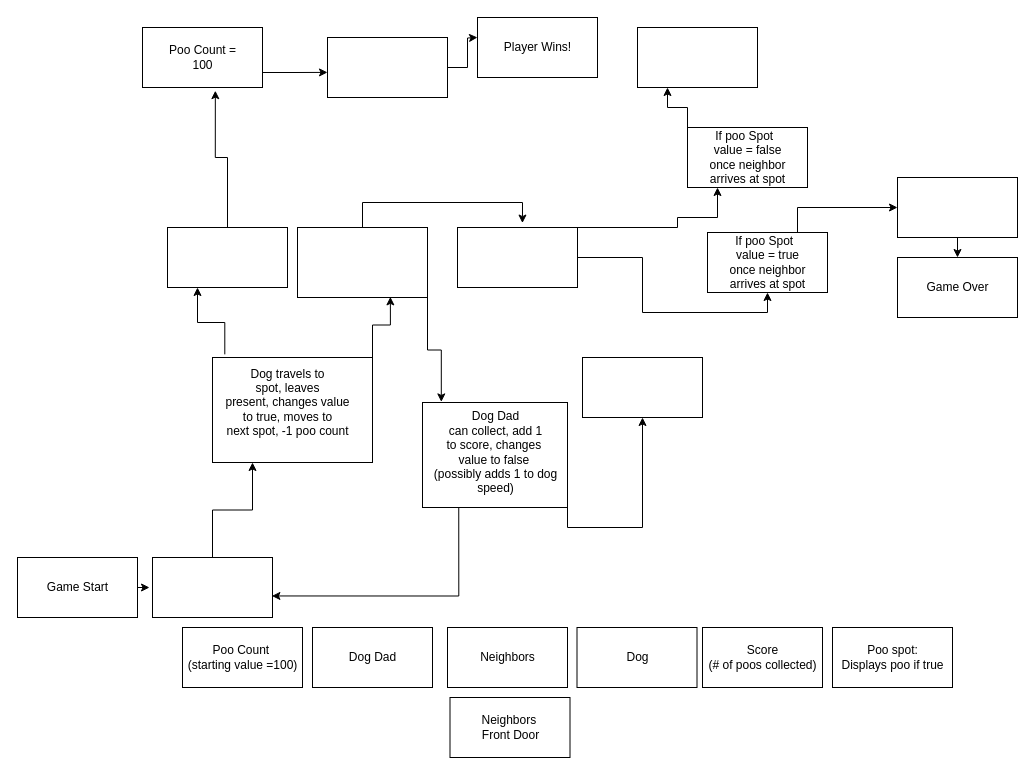
Image size: 1035x775. Some labels were removed from this diagram. The shapes that lost their labels are listed below. From the top down, each one's centre as x and y in pixels, then its label:
the point at 387,67: Poo Count = 0
the point at 697,57: Neighbor goes back inside
the point at 957,207: Neighbors step in poo
the point at 227,257: Poo Count -1
the point at 362,262: Poo Spot contains poo value = True
the point at 517,257: Neighbor comes outside once value turns true
the point at 642,387: Score +1
the point at 212,587: Poo Spot contains poo value = false
